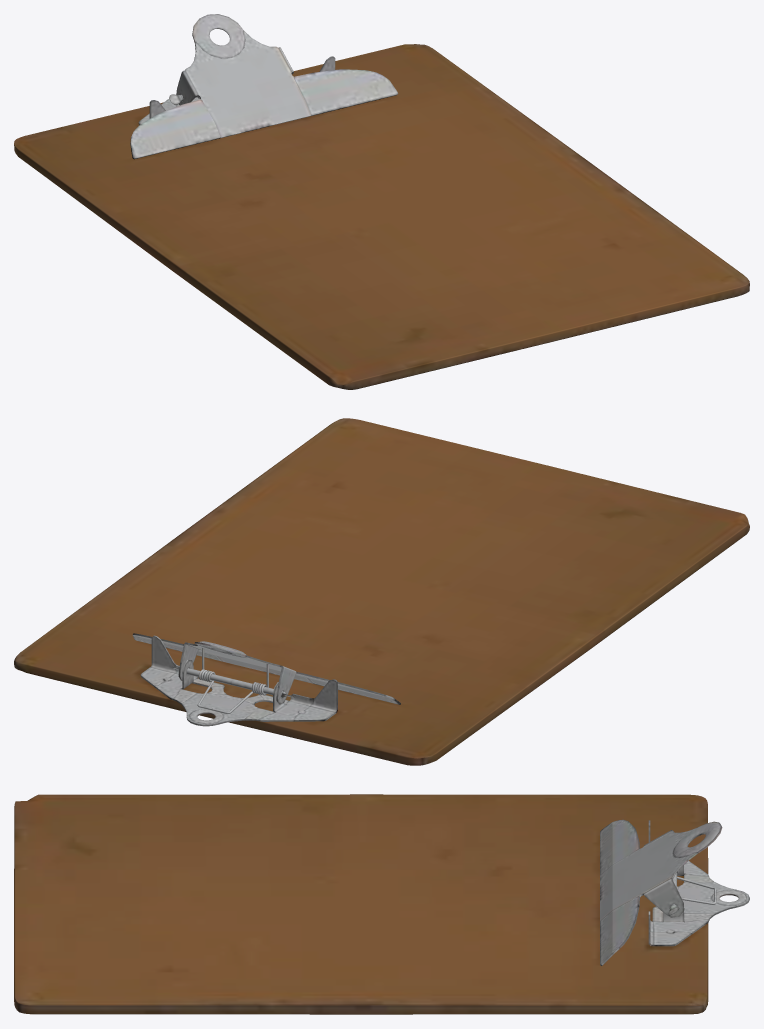
File: clipboard.glb
The picture shows the model from 3 angles, top to bottom: view 1: azimuth 30°, elevation 25°; view 2: azimuth 150°, elevation 25°; view 3: azimuth 270°, elevation 25°; orthographic projection. The views are drawn at different scales.
Parts seen in each view (by area): view 1: clipboard; view 2: clipboard; view 3: clipboard.
Part boxes in pixels (<box>): clipboard: <box>14,14,749,389</box>; clipboard: <box>14,418,749,765</box>; clipboard: <box>14,794,749,1014</box>.
Size of the model in its own units: 0.2286 by 0.042 by 0.3366.
1 material, 1 textured.
